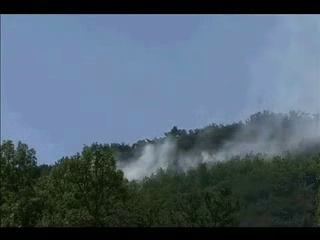smoke: (205, 56, 320, 162), (111, 132, 210, 183)
